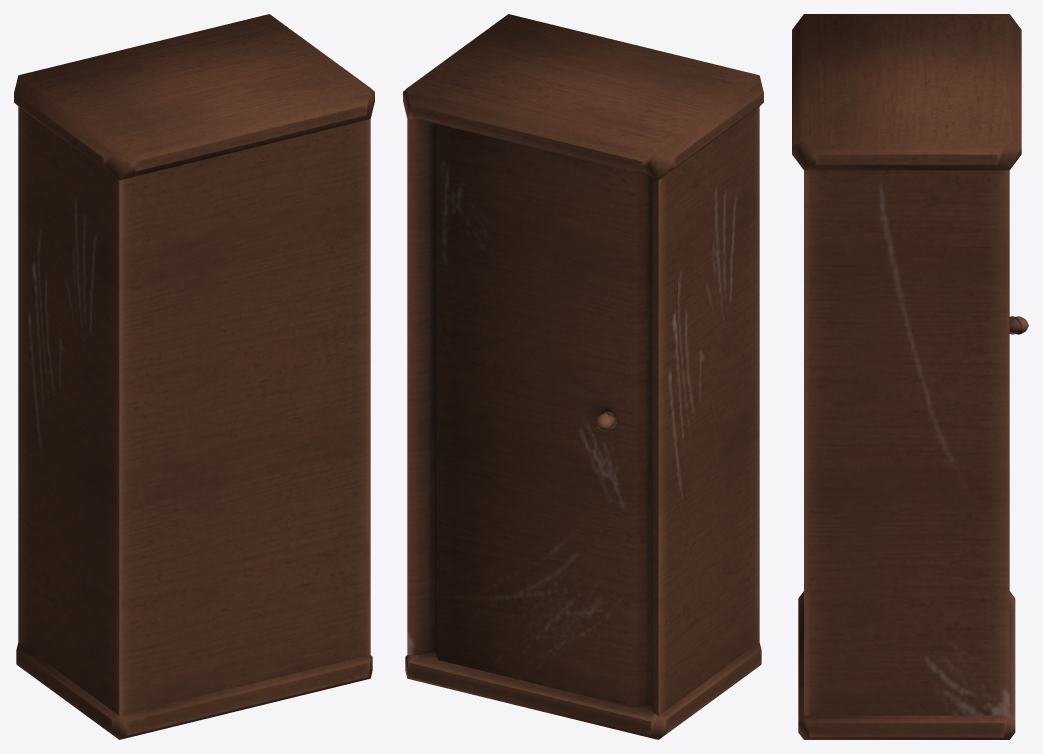
The model's file is skrin.fbx.
3 renders of one model, left to right at view 1: azimuth 30°, elevation 25°; view 2: azimuth 150°, elevation 25°; view 3: azimuth 270°, elevation 25°, orthographic.
Visible parts, largest first — view 1: komoda_1; view 2: komoda_1; view 3: komoda_1.
Part boxes in pixels (x1,y1,x2,y2): komoda_1: (14, 14, 374, 739); komoda_1: (403, 14, 763, 739); komoda_1: (792, 14, 1028, 739).
Size of the model in its own units: 216 by 449 by 160.
1 material, 1 textured.
